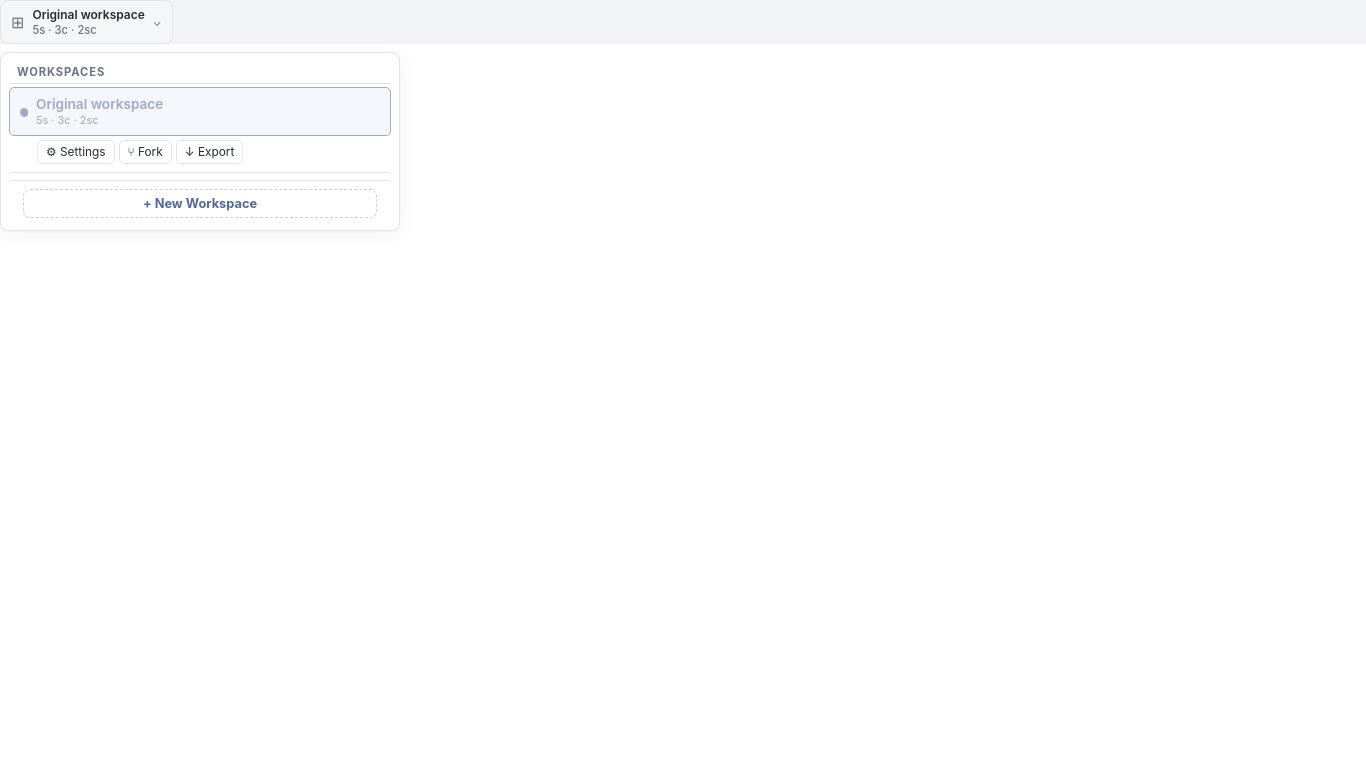
Scenario: Workspace Settings › PATCHes both settings with CSRF, refreshes the header and reopens with saved values
Click the button "⚙ Settings" at (76, 152), box [37,140,114,164]
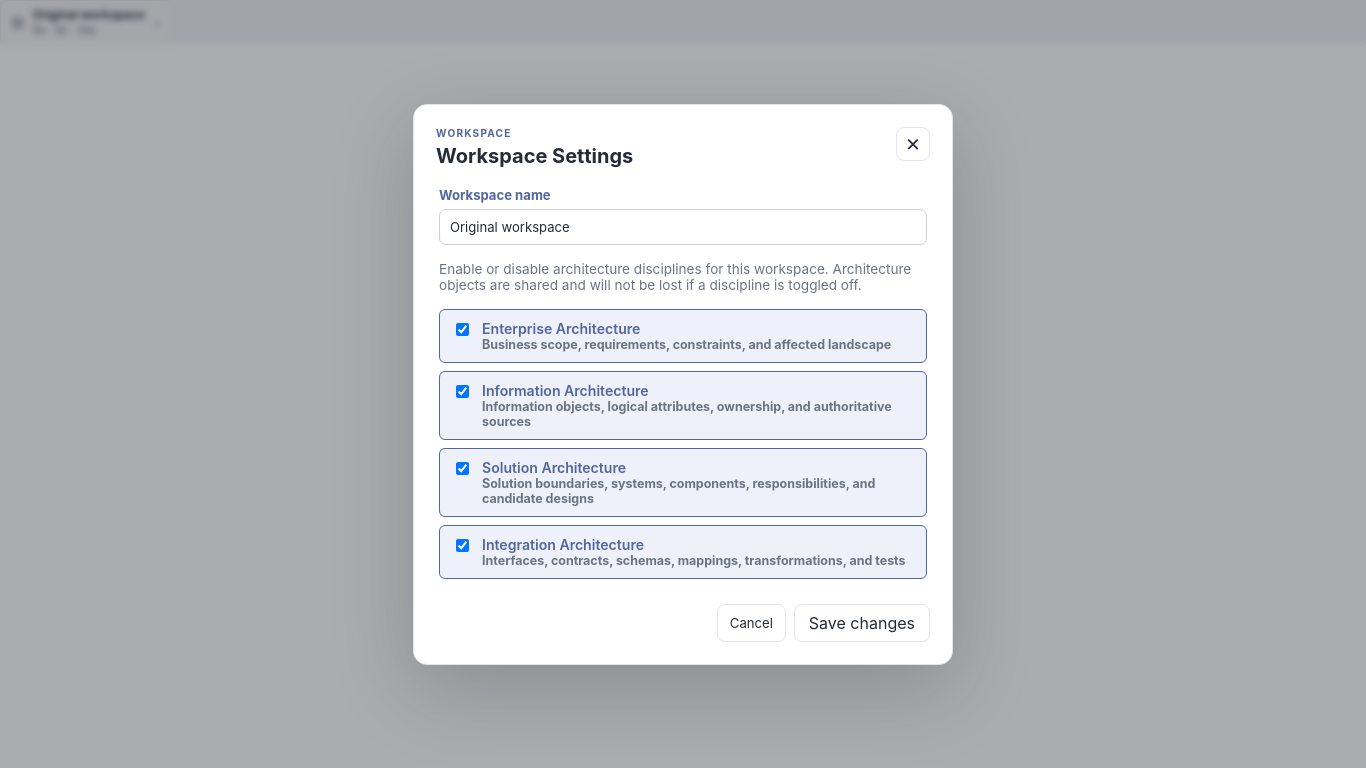
Replace the text in the field with "Saved workspace" at (683, 226), box [439,208,927,244]
Click the checkbox labelled "Information Architecture" at (462, 391), box [456,384,469,398]
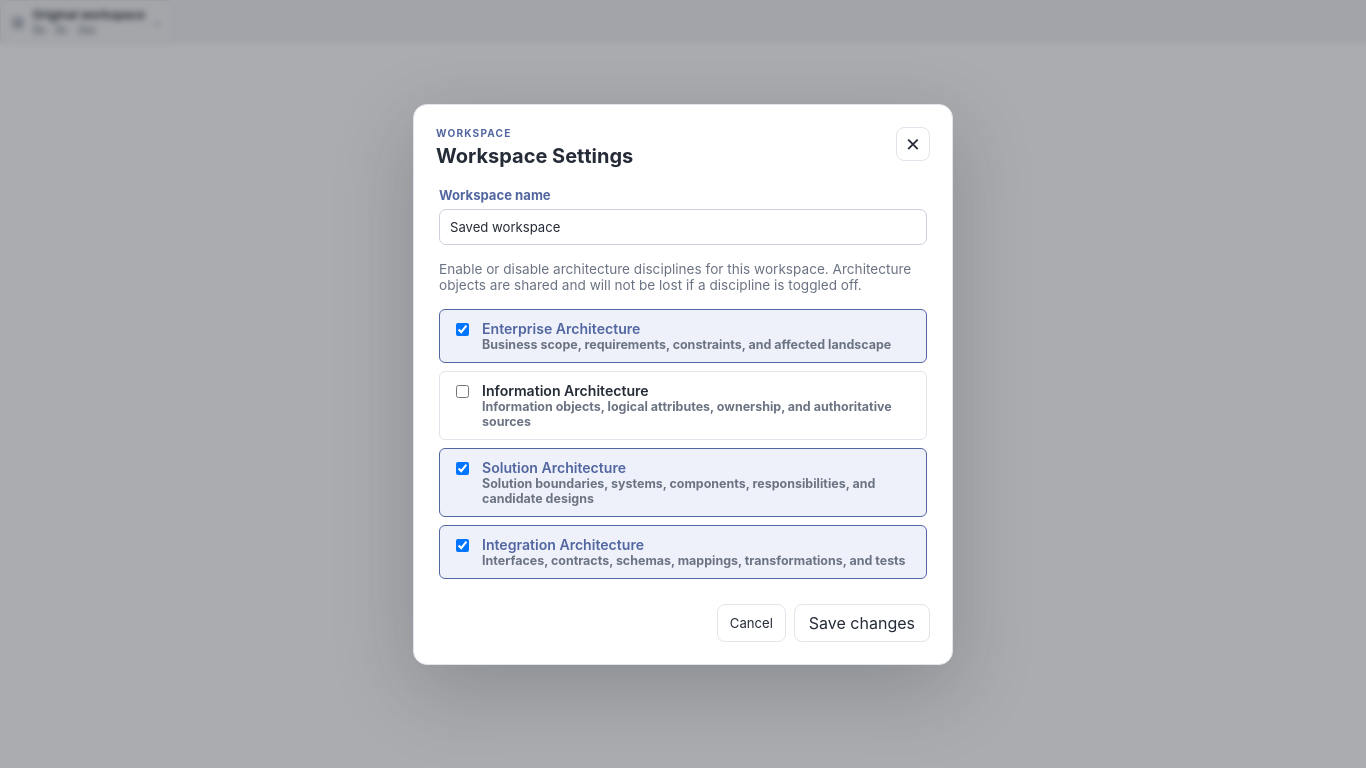
Click the checkbox labelled "Solution Architecture" at (462, 468), box [456,462,469,474]
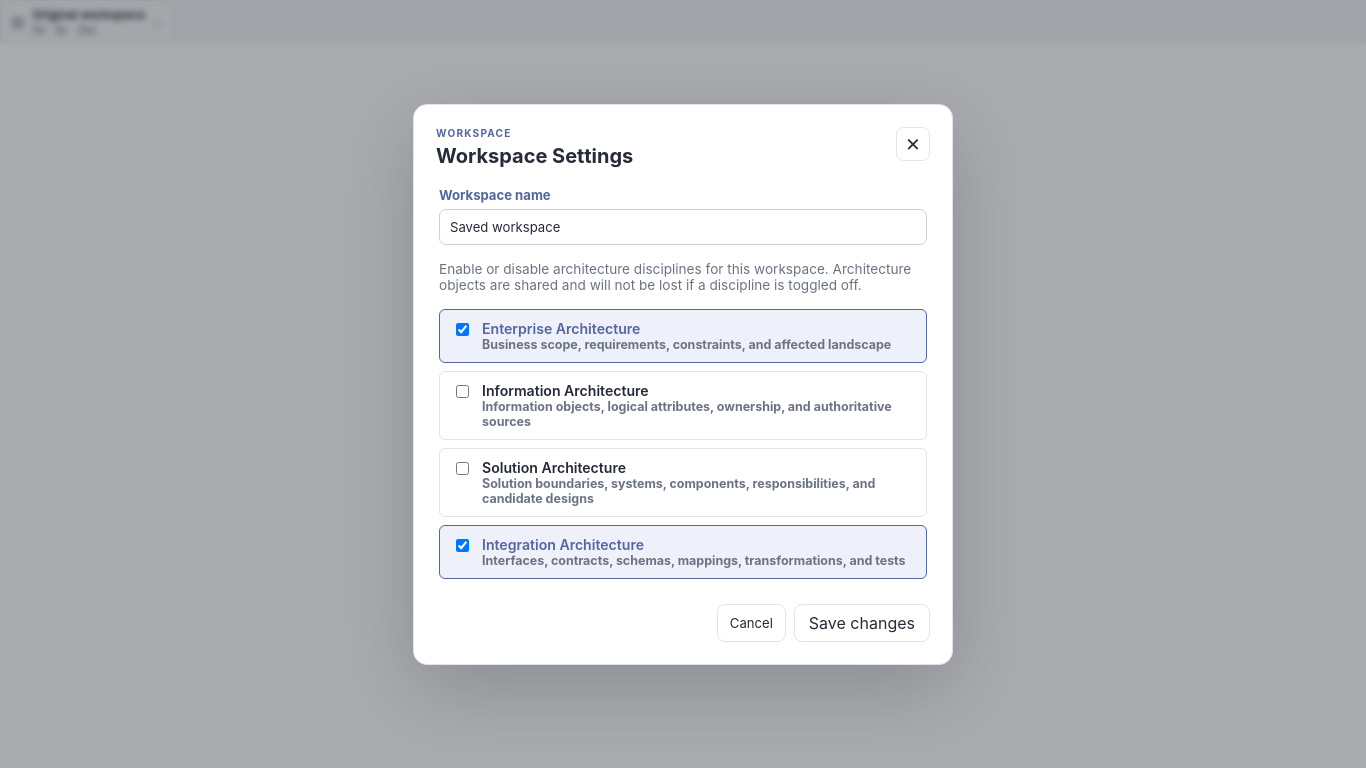
Click the checkbox labelled "Integration Architecture" at (462, 545), box [456,538,469,552]
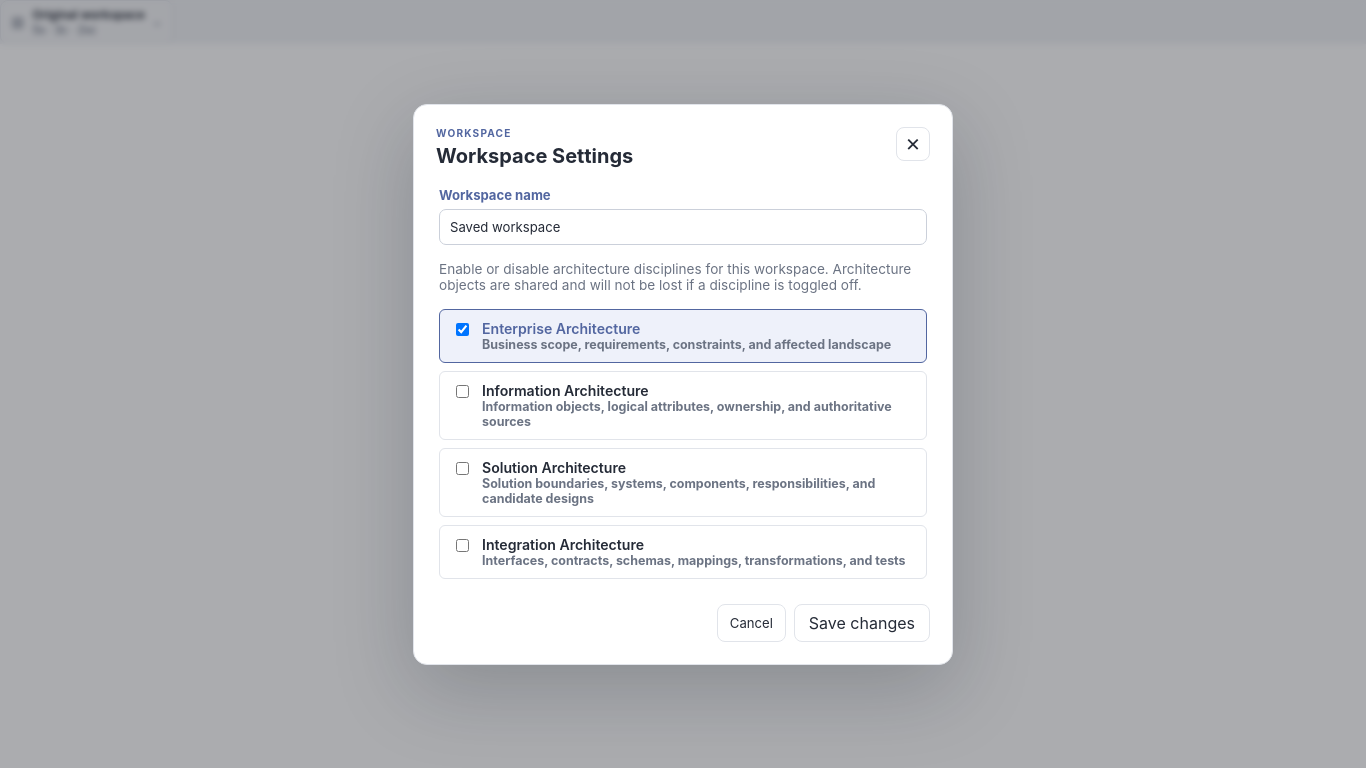
Click the button "Save changes" at (862, 622), box [794,604,930,642]
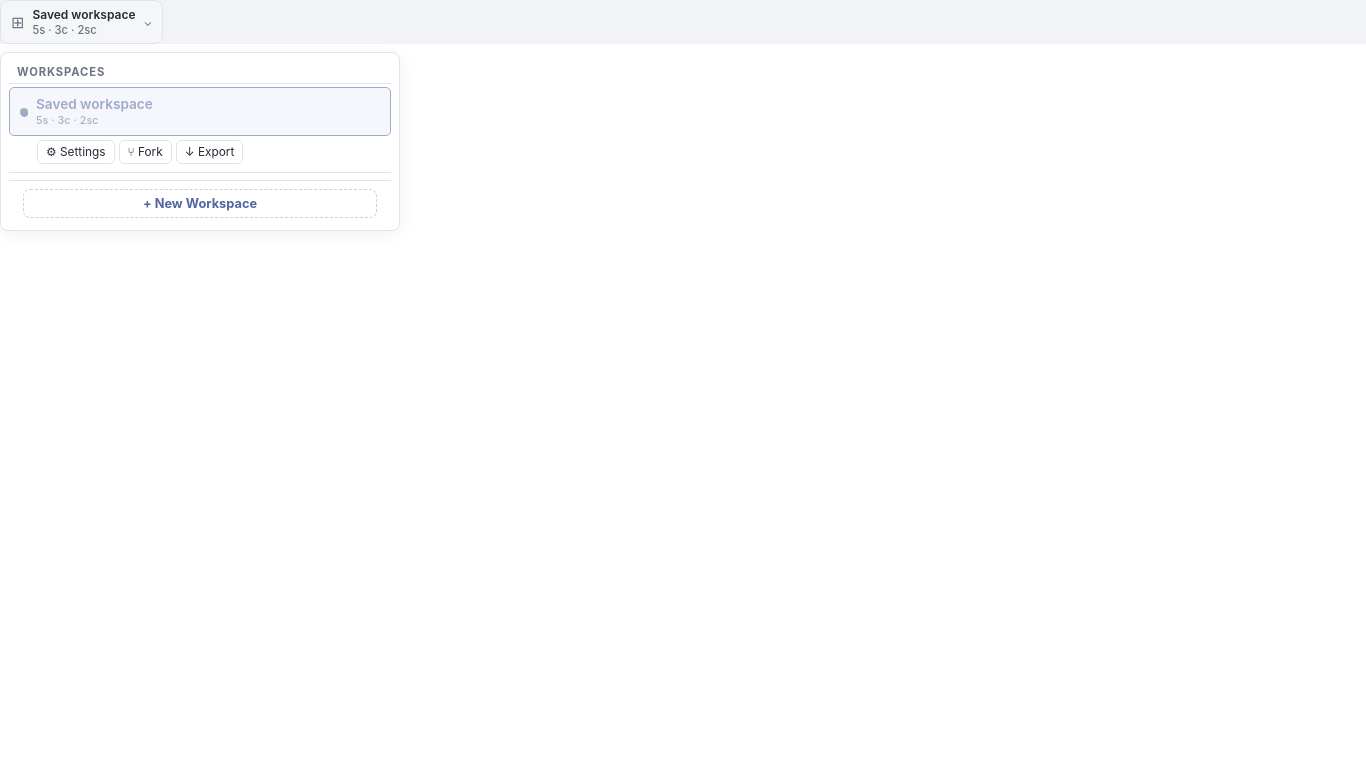
Now the dialog is gone
Now the text with class "ws-switcher-name" reads "Saved workspace", box [32,7,136,22]
Click the button "⚙ Settings" at (76, 152), box [37,140,114,164]
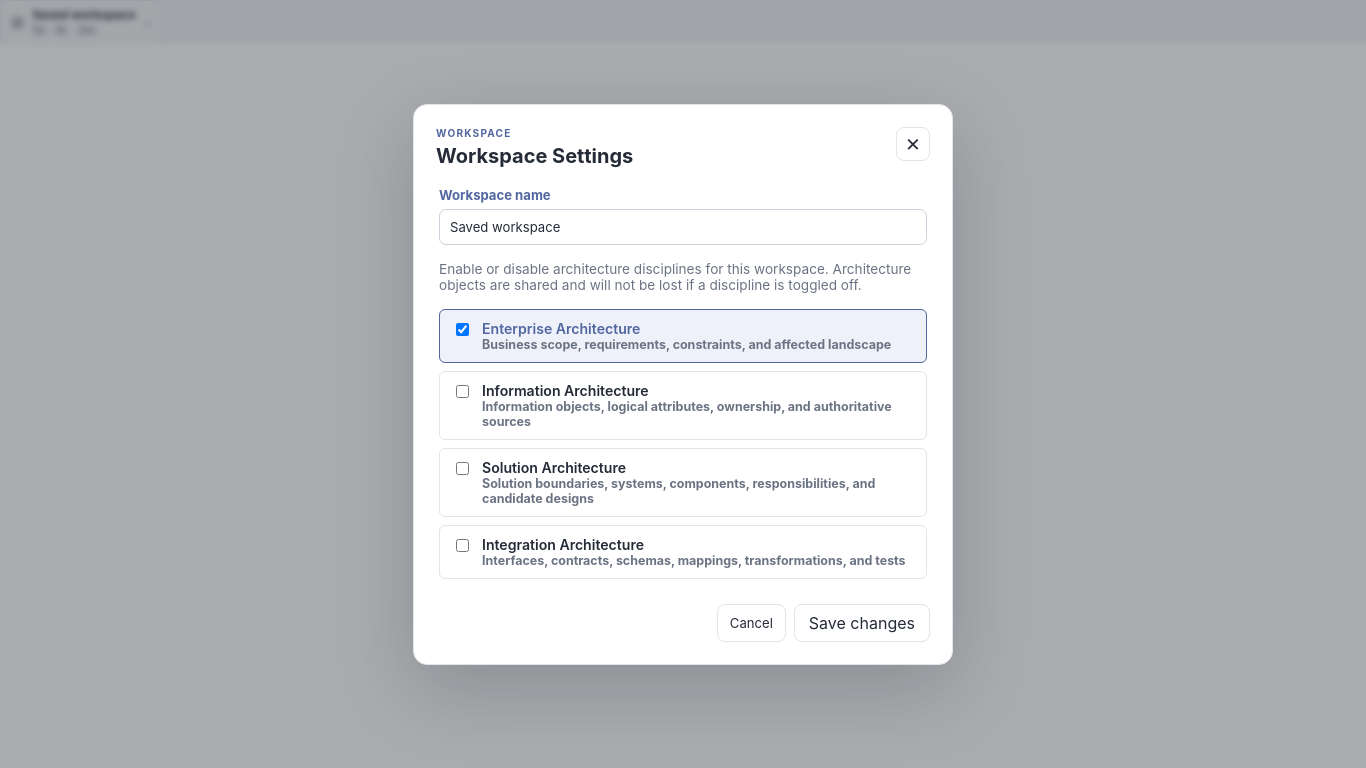
Now the field holds "Saved workspace", box [439,208,927,244]
